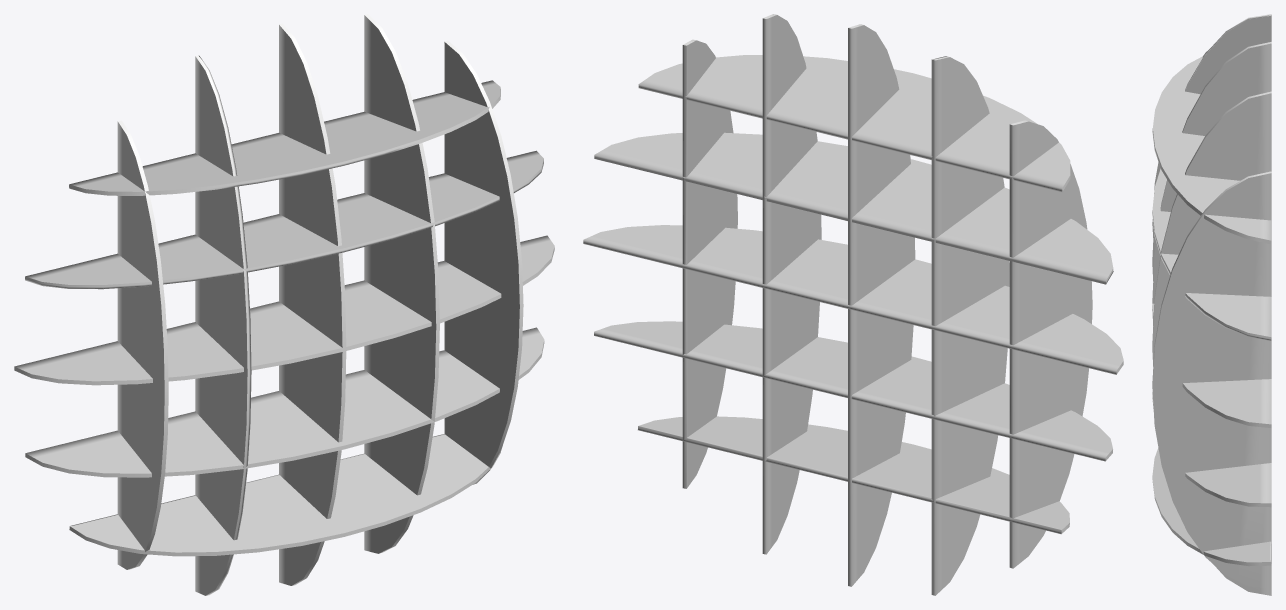
File: WallShelf .glb
The picture shows the model from 3 angles, left to right: view 1: azimuth 30°, elevation 25°; view 2: azimuth 150°, elevation 25°; view 3: azimuth 270°, elevation 25°; orthographic projection. The views are drawn at different scales.
Parts seen in each view (by area): view 1: Shelf; view 2: Shelf; view 3: Shelf.
Part boxes in pixels (x1,y1,x2,y2): Shelf: (14,14,554,595); Shelf: (583,14,1123,595); Shelf: (1152,14,1271,595).
Bounding box in the file's own units: 4.03 × 4.03 × 0.833.
2 materials, 1 textured.
